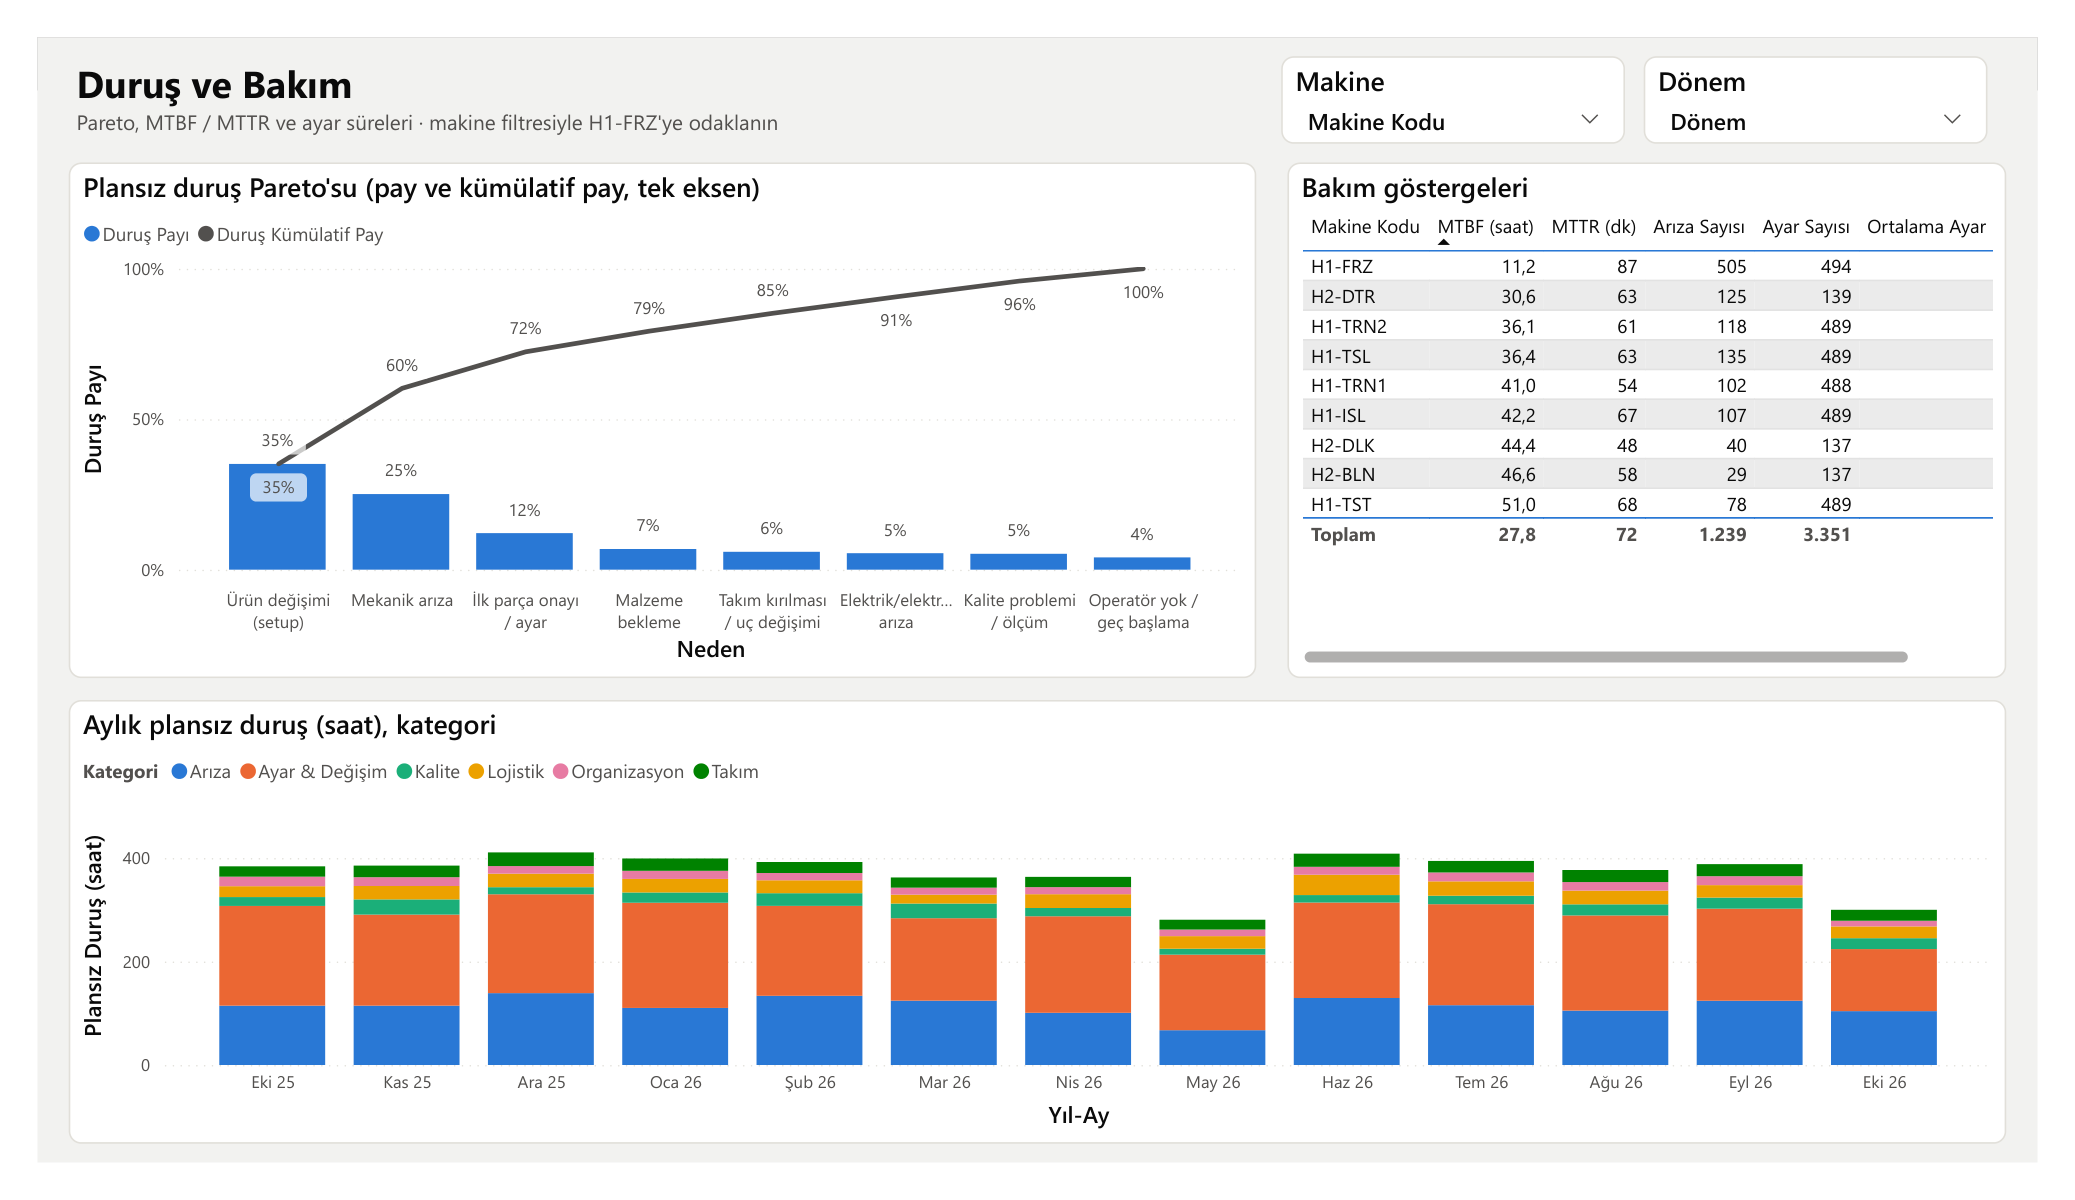

Layout of this report page (visuals, bound fields, positions):
{"tool":"powerbi","page":{"name":"Duruş ve Bakım","canvas":[1280,720],"ordinal":2},"visuals":[{"type":"textbox","box":[20,8,760,60],"z":0},{"type":"slicer","title":"Makine","fields":{"Values":["DimMakine.Makine Kodu"]},"box":[796,12,220,56],"z":1000},{"type":"slicer","title":"Dönem","fields":{"Values":["DimTarih.Dönem"]},"box":[1028,12,220,56],"z":2000},{"type":"lineClusteredColumnComboChart","title":"Plansız duruş Pareto''su (pay ve kümülatif pay, tek eksen)","fields":{"Category":["DimDurusNedeni.Neden"],"Y":["_Ölçüler.Duruş Payı"],"Y2":["_Ölçüler.Duruş Kümülatif Pay"]},"box":[20,80,760,330],"z":3000},{"type":"tableEx","title":"Bakım göstergeleri","fields":{"Values":["DimMakine.Makine Kodu","_Ölçüler.MTBF (saat)","_Ölçüler.MTTR (dk)","_Ölçüler.Arıza Sayısı","_Ölçüler.Ayar Sayısı","_Ölçüler.Ortalama Ayar Süresi (dk)"]},"box":[800,80,460,330],"z":4000},{"type":"columnChart","title":"Aylık plansız duruş (saat), kategori","fields":{"Category":["DimTarih.Yıl-Ay"],"Series":["DimDurusNedeni.Kategori"],"Y":["_Ölçüler.Plansız Duruş (saat)"]},"box":[20,424,1240,284],"z":5000}]}

Visuals, with their boxes on the page's 1280x720 design canvas (x1, y1, x2, y2). These are canvas units, not pixel positions in the 2075x1200 screenshot, which may show the page scaled, cropped or inside an application window:
textbox: {"x1": 20, "y1": 8, "x2": 780, "y2": 68}
"Makine" slicer: {"x1": 796, "y1": 12, "x2": 1016, "y2": 68}
"Dönem" slicer: {"x1": 1028, "y1": 12, "x2": 1248, "y2": 68}
"Plansız duruş Pareto''su (pay ve kümülatif pay, tek eksen)" lineClusteredColumnComboChart: {"x1": 20, "y1": 80, "x2": 780, "y2": 410}
"Bakım göstergeleri" tableEx: {"x1": 800, "y1": 80, "x2": 1260, "y2": 410}
"Aylık plansız duruş (saat), kategori" columnChart: {"x1": 20, "y1": 424, "x2": 1260, "y2": 708}
